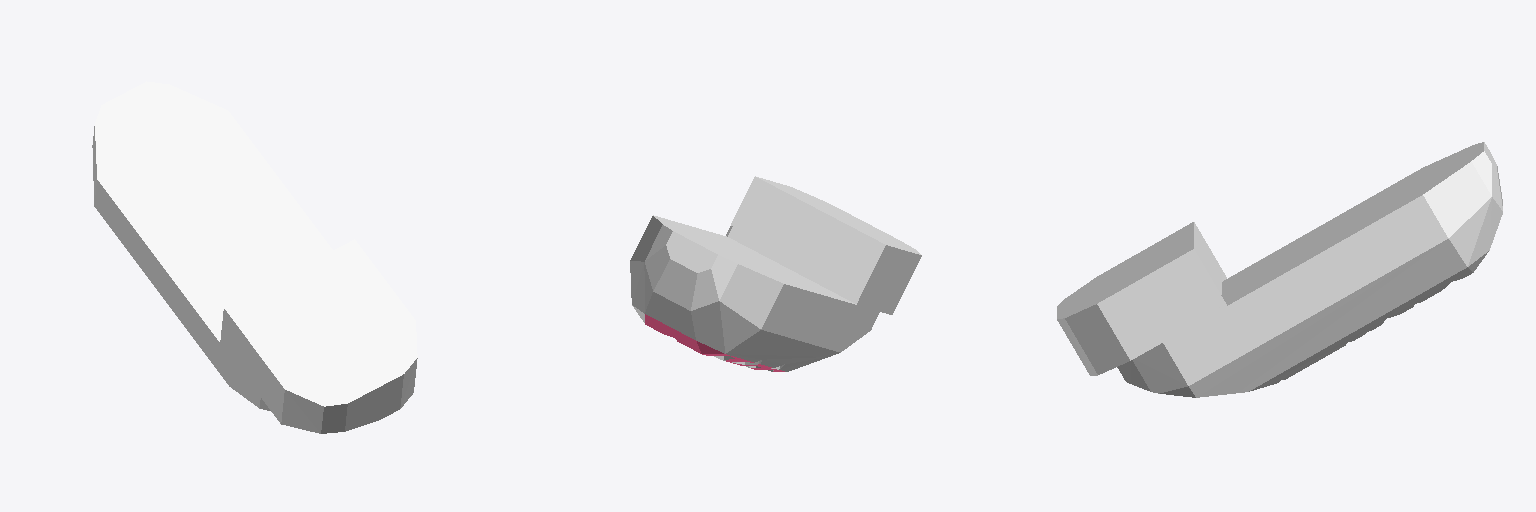
The model's file is Jolly Roger Bay Area 2.obj.
3 views of the same model, side by side, from view 1: azimuth 30°, elevation 25°; view 2: azimuth 150°, elevation 25°; view 3: azimuth 270°, elevation 25° (orthographic).
Bounding box in the file's own units: 6374 × 7080 × 14114.